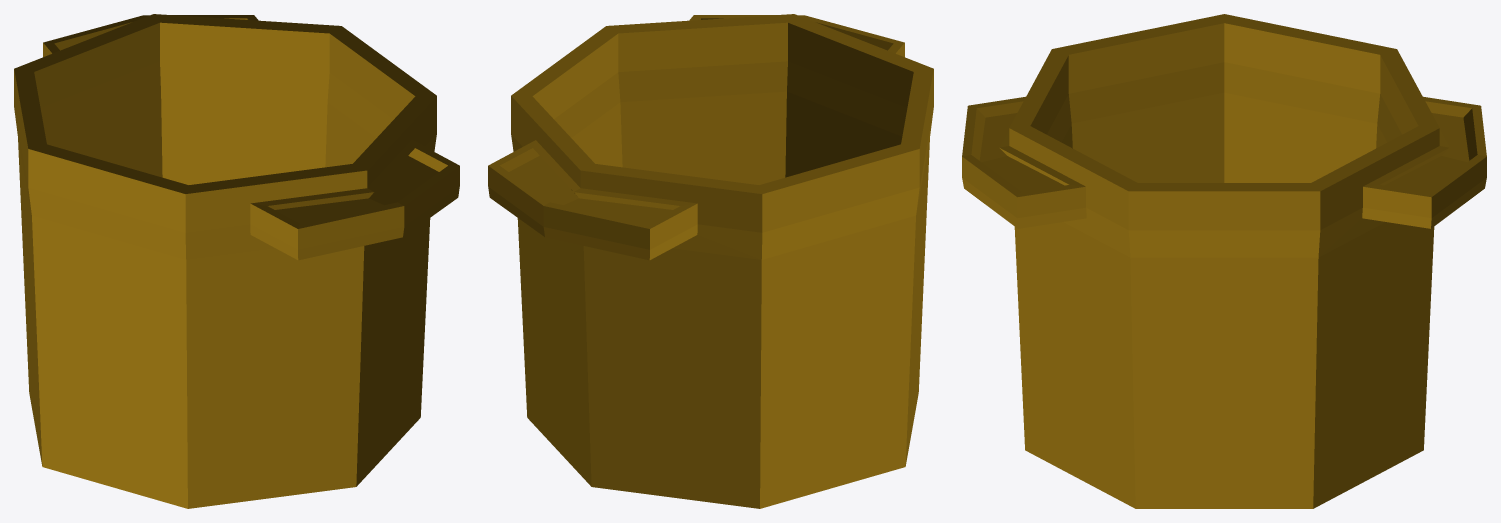
Rendered from Pot 2.fbx.
The picture shows the model from 3 angles, left to right: view 1: azimuth 30°, elevation 25°; view 2: azimuth 150°, elevation 25°; view 3: azimuth 270°, elevation 25°; orthographic projection.
Parts seen in each view (by area): view 1: Node 0; view 2: Node 0; view 3: Node 0.
Boxes of the visible parts, x1,y1,x2,y2 form: Node 0: (14, 14, 459, 508); Node 0: (488, 14, 933, 508); Node 0: (962, 14, 1486, 508).
Bounding box in the file's own units: 0.7529 × 0.5125 × 0.6021.
